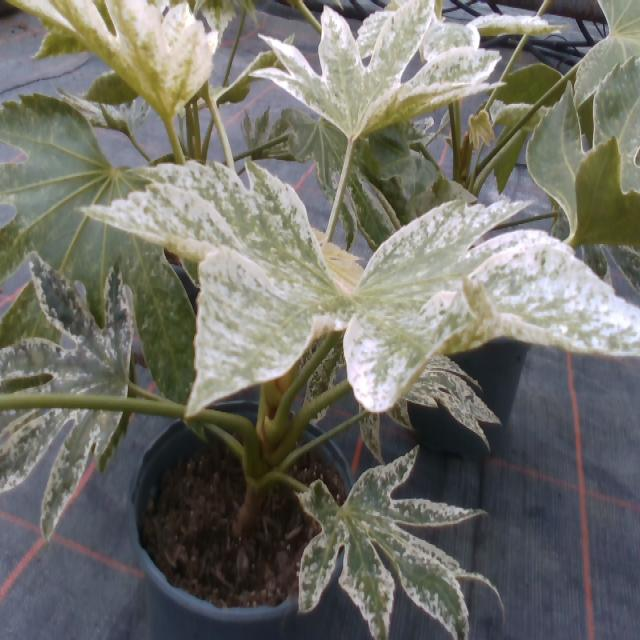Fatsia-japonica: (79, 136, 640, 427), (0, 234, 146, 530), (284, 446, 497, 640), (5, 98, 172, 322), (245, 0, 485, 143), (6, 0, 236, 136), (521, 58, 640, 268), (273, 106, 369, 236), (563, 0, 640, 109), (458, 3, 565, 50)
